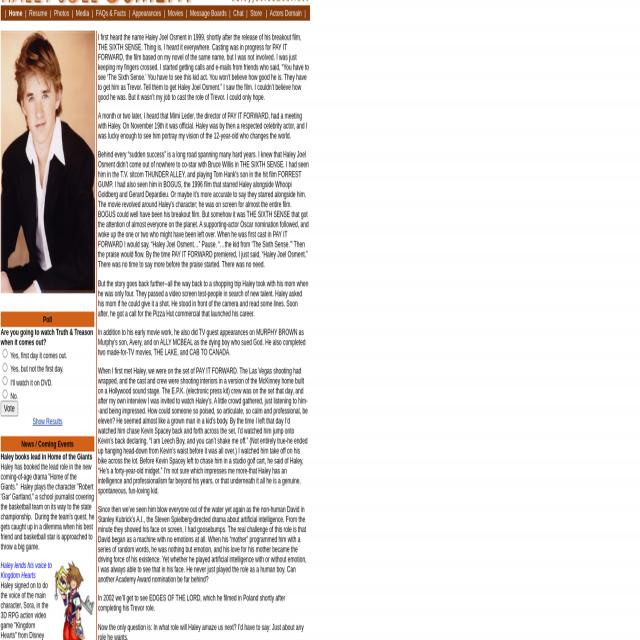button: (0, 29, 94, 291), (0, 400, 18, 415)
field: (2, 348, 8, 358), (2, 362, 8, 372), (2, 375, 8, 385), (2, 388, 8, 398)
